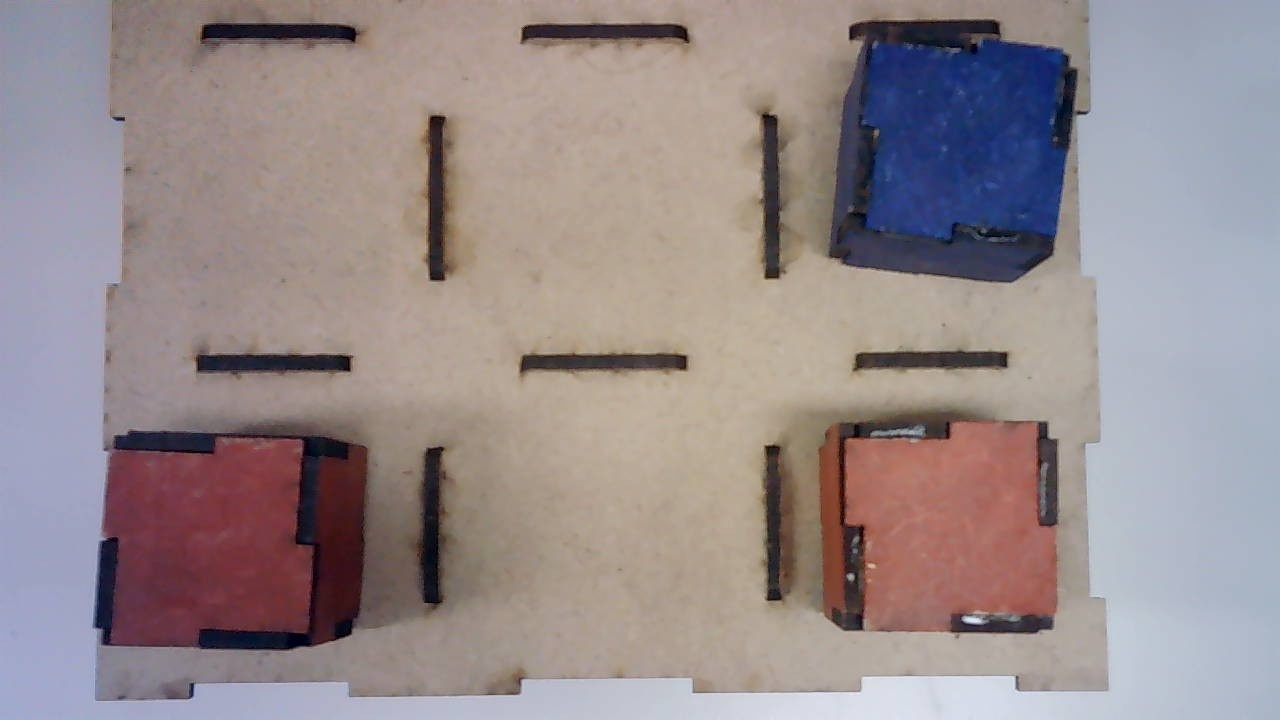blue box: (827, 31, 1074, 290)
red box: (94, 423, 363, 650), (816, 419, 1069, 640)
